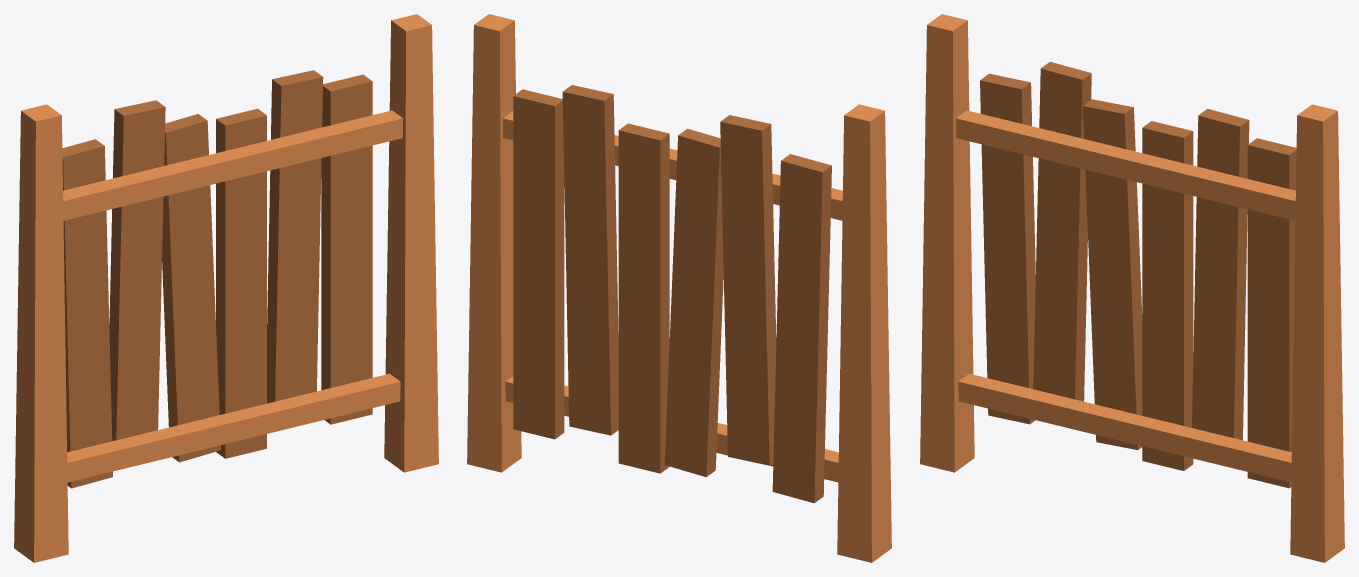
File: fenceFortified.fbx
3 views of the same model, side by side, from view 1: azimuth 30°, elevation 25°; view 2: azimuth 150°, elevation 25°; view 3: azimuth 330°, elevation 25° (orthographic).
Parts seen in each view (by area): view 1: fenceFortified; view 2: fenceFortified; view 3: fenceFortified.
Boxes of the visible parts, x1,y1,x2,y2 form: fenceFortified: (14,14,438,562); fenceFortified: (467,14,891,562); fenceFortified: (920,14,1344,562).
Size of the model in its own units: 5 by 5.17 by 0.5302.
